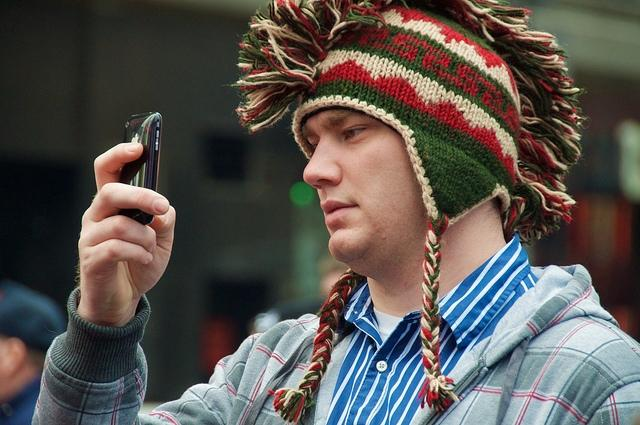apple: (131, 133, 139, 143)
